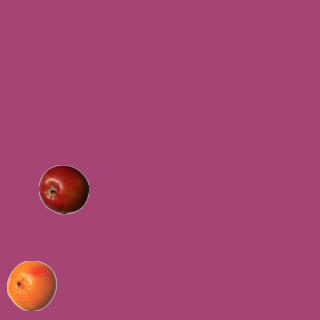Apple Braeburn: (38, 164, 88, 214)
Grapefruit Pink: (6, 260, 56, 310)
